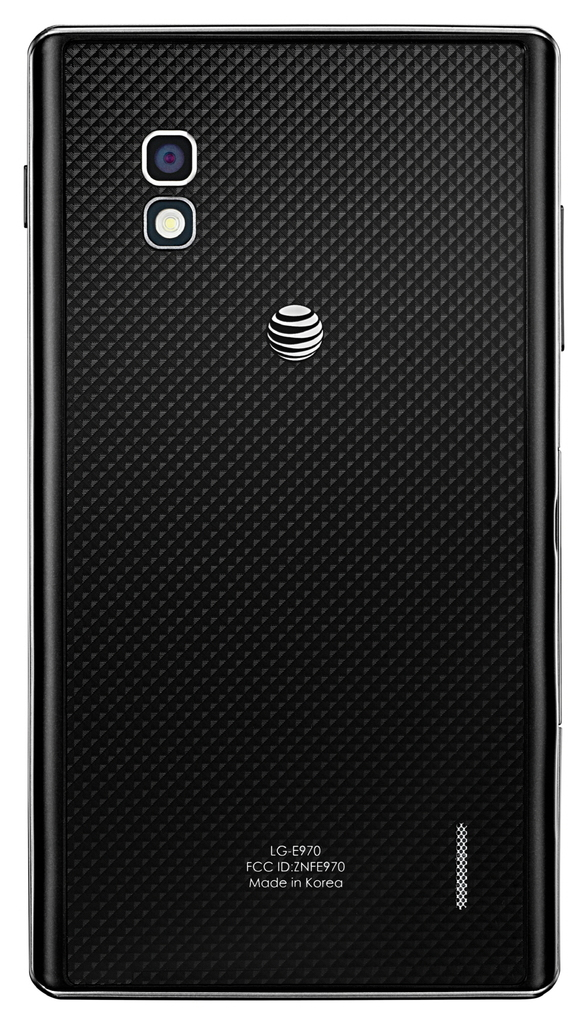Mobile-phone: (22, 23, 564, 1001)
